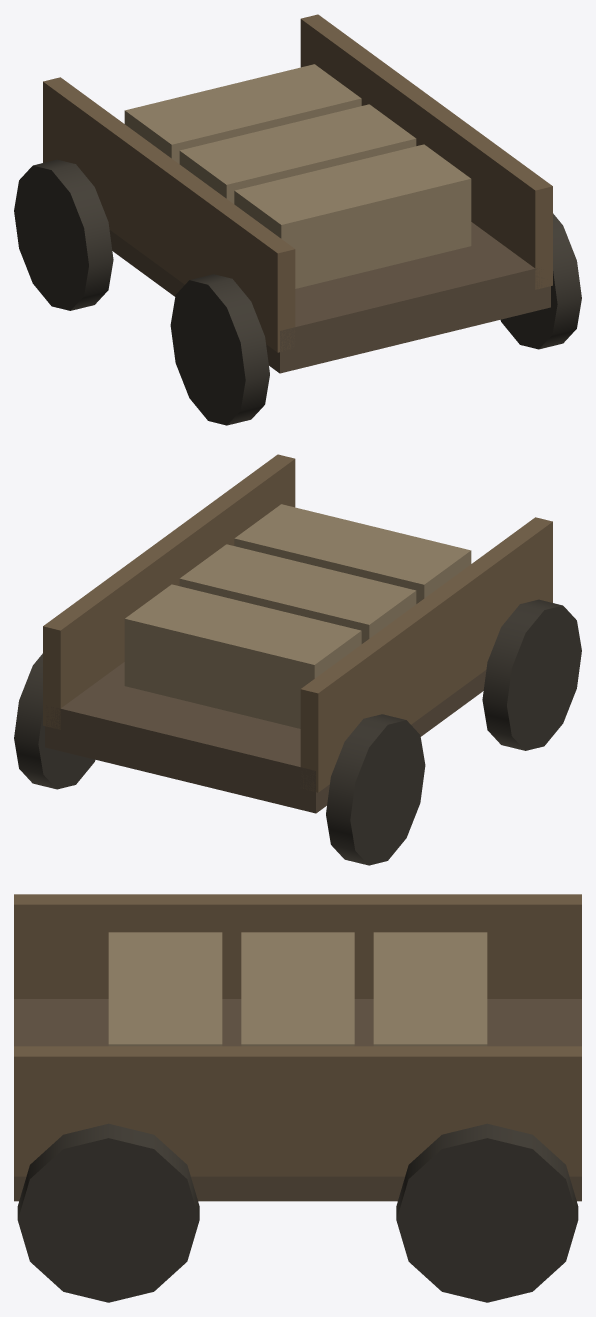
File: Village_Caravan_Cart.glb
The picture shows the model from 3 angles, top to bottom: view 1: azimuth 30°, elevation 25°; view 2: azimuth 150°, elevation 25°; view 3: azimuth 270°, elevation 25°; orthographic projection. The views are drawn at different scales.
Parts seen in each view (by area): view 1: _MeshInstance3D_3465, _MeshInstance3D_3464, _MeshInstance3D_3473, _MeshInstance3D_3468, _MeshInstance3D_3467, _MeshInstance3D_3466, _MeshInstance3D_3471, _MeshInstance3D_3472, _MeshInstance3D_3470; view 2: _MeshInstance3D_3465, _MeshInstance3D_3464, _MeshInstance3D_3471, _MeshInstance3D_3468, _MeshInstance3D_3466, _MeshInstance3D_3467, _MeshInstance3D_3472, _MeshInstance3D_3473, _MeshInstance3D_3469; view 3: _MeshInstance3D_3468, _MeshInstance3D_3465, _MeshInstance3D_3469, _MeshInstance3D_3470, _MeshInstance3D_3464, _MeshInstance3D_3471, _MeshInstance3D_3473, _MeshInstance3D_3472.
Part boxes in pixels (x1=…): _MeshInstance3D_3465: x1=43, y1=77, x2=295, y2=352; _MeshInstance3D_3464: x1=109, y1=222, x2=550, y2=373; _MeshInstance3D_3473: x1=234, y1=144, x2=471, y2=288; _MeshInstance3D_3468: x1=300, y1=14, x2=552, y2=289; _MeshInstance3D_3467: x1=170, y1=274, x2=269, y2=425; _MeshInstance3D_3466: x1=14, y1=159, x2=113, y2=310; _MeshInstance3D_3471: x1=124, y1=64, x2=361, y2=163; _MeshInstance3D_3472: x1=179, y1=104, x2=416, y2=203; _MeshInstance3D_3470: x1=500, y1=213, x2=581, y2=349; _MeshInstance3D_3465: x1=300, y1=517, x2=552, y2=792; _MeshInstance3D_3464: x1=45, y1=662, x2=486, y2=813; _MeshInstance3D_3471: x1=124, y1=584, x2=361, y2=728; _MeshInstance3D_3468: x1=43, y1=454, x2=295, y2=729; _MeshInstance3D_3466: x1=326, y1=714, x2=425, y2=865; _MeshInstance3D_3467: x1=482, y1=599, x2=581, y2=750; _MeshInstance3D_3472: x1=179, y1=544, x2=416, y2=643; _MeshInstance3D_3473: x1=234, y1=504, x2=471, y2=603; _MeshInstance3D_3469: x1=14, y1=653, x2=95, y2=789; _MeshInstance3D_3468: x1=14, y1=1046, x2=581, y2=1176; _MeshInstance3D_3465: x1=14, y1=894, x2=581, y2=998; _MeshInstance3D_3469: x1=396, y1=1123, x2=578, y2=1302; _MeshInstance3D_3470: x1=17, y1=1123, x2=199, y2=1302; _MeshInstance3D_3464: x1=14, y1=999, x2=581, y2=1201; _MeshInstance3D_3471: x1=373, y1=932, x2=487, y2=1046; _MeshInstance3D_3473: x1=108, y1=932, x2=222, y2=1046; _MeshInstance3D_3472: x1=241, y1=932, x2=354, y2=1046.
Size of the model in its own units: 2.48 by 1.33 by 3.
